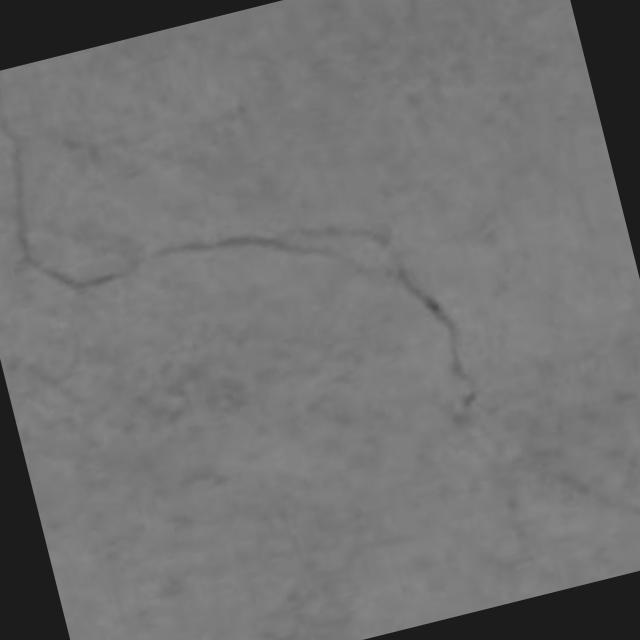crack: (0, 83, 475, 416), (153, 226, 477, 420), (0, 75, 138, 291), (387, 263, 475, 412), (543, 468, 639, 519)
